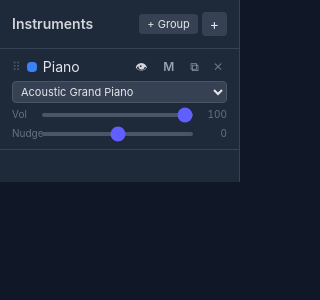
InstrumentsPanel › duplicates an instrument
Click the button named "Duplicate Piano": click(195, 67) x1=186 y1=59 x2=203 y2=75
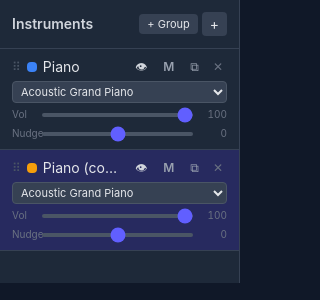
Now the text "Piano (copy)" is shown, box x1=43 y1=158 x2=125 y2=178
